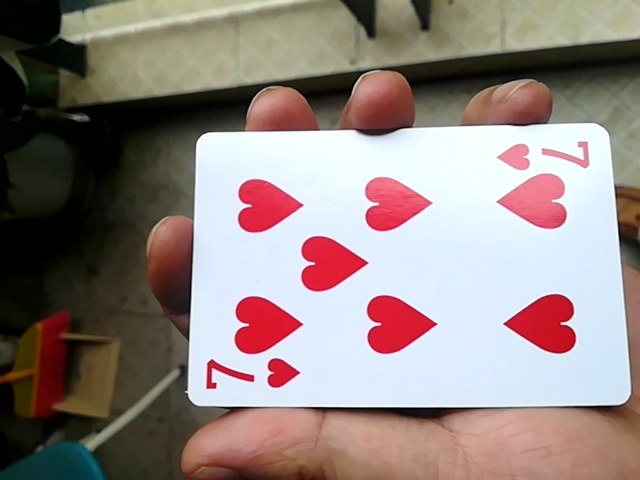hx 7: (173, 124, 619, 416)
